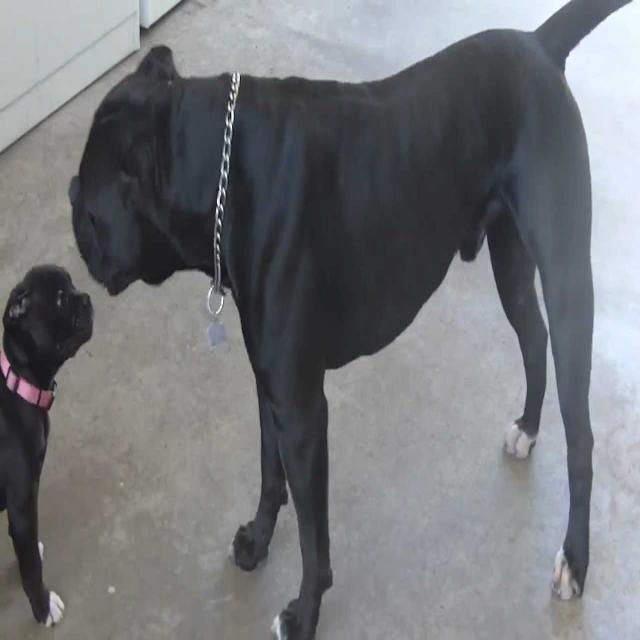dog: (0, 67, 229, 448)
